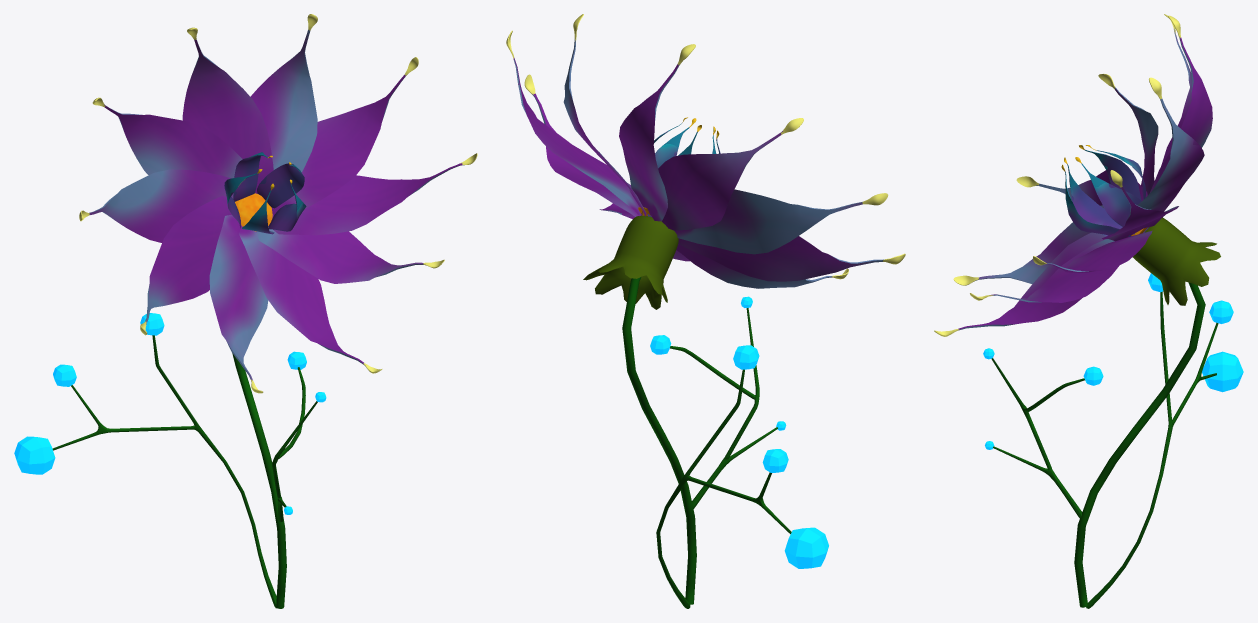
Rendered from Flower_cut.fbx.
The picture shows the model from 3 angles, left to right: view 1: azimuth 30°, elevation 25°; view 2: azimuth 150°, elevation 25°; view 3: azimuth 270°, elevation 25°; orthographic projection. The views are drawn at different scales.
Visible parts, largest first — view 1: Flower; view 2: Flower; view 3: Flower.
Boxes of the visible parts, bbox=[...] form: Flower: bbox=[14, 14, 477, 608]; Flower: bbox=[506, 14, 905, 608]; Flower: bbox=[934, 14, 1243, 608].
Bounding box in the file's own units: 63.84 × 93.06 × 45.79.
